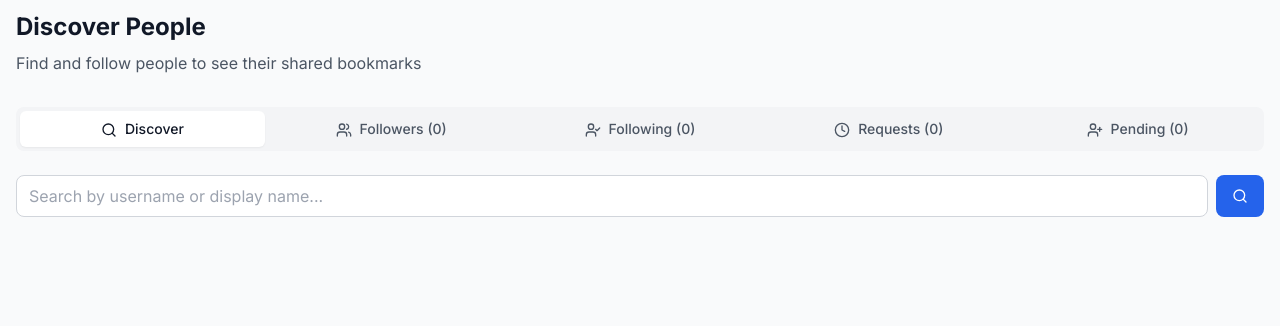
Test: Discover Page › Requests Tab › should show empty state when no pending requests
The image size is (1280, 326).
Step 1. Click the button "Requests (0)" → (889, 129), box top-left (766, 111), bottom-right (1011, 147)
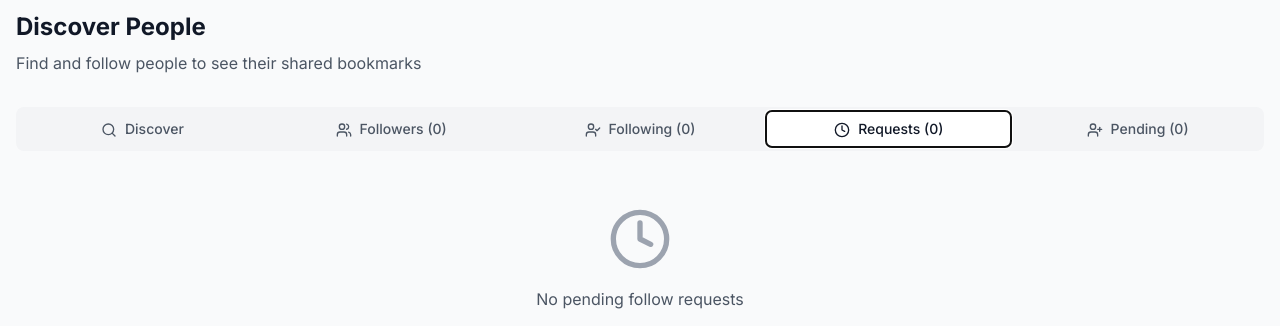
Result: the text "No pending follow requests" is shown at top-left (536, 289), bottom-right (744, 309)
